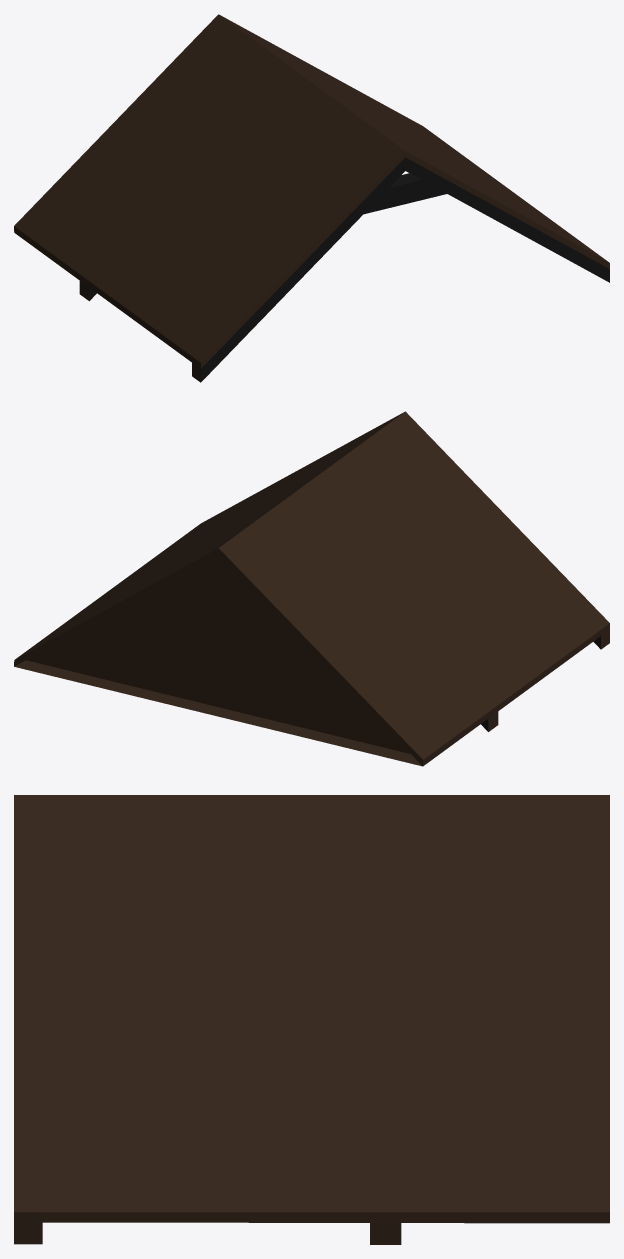
File: roof.glb
3 renders of one model, top to bottom at view 1: azimuth 30°, elevation 25°; view 2: azimuth 150°, elevation 25°; view 3: azimuth 270°, elevation 25°, orthographic. The views are drawn at different scales.
Parts seen in each view (by area): view 1: Cube; view 2: Cube; view 3: Cube.
Part boxes in pixels (bbox=[...]): Cube: bbox=[14, 14, 609, 382]; Cube: bbox=[14, 411, 609, 766]; Cube: bbox=[14, 795, 609, 1244].
Bounding box in the file's own units: 3.86 × 1.64 × 3.05.
